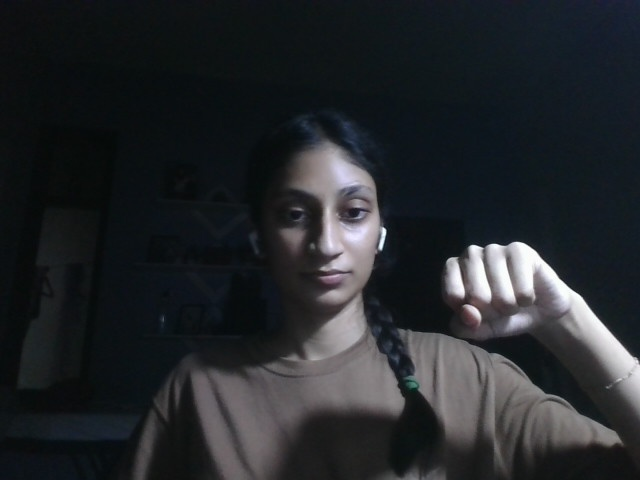yes: (440, 239, 582, 345)
